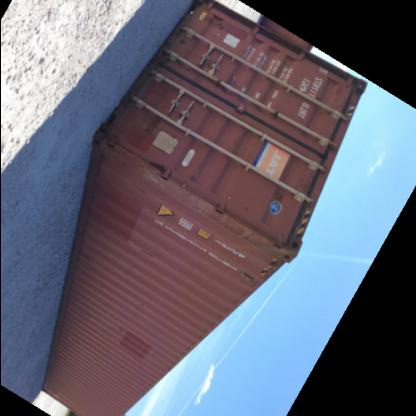Damage: (109, 142, 170, 192), (172, 185, 224, 229), (226, 217, 280, 251), (171, 180, 176, 191)
